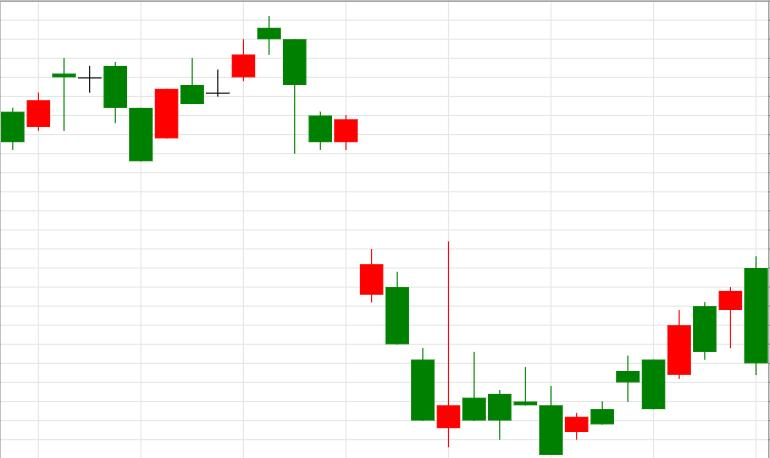bearish_engulfing_fall: (642, 257, 768, 409)
evening_star_fall: (155, 16, 306, 154)
inverse_hammer_rise: (361, 241, 460, 447)
